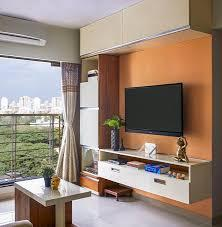TV: (121, 85, 189, 138)
console: (97, 144, 211, 202)
table: (15, 180, 93, 227)
